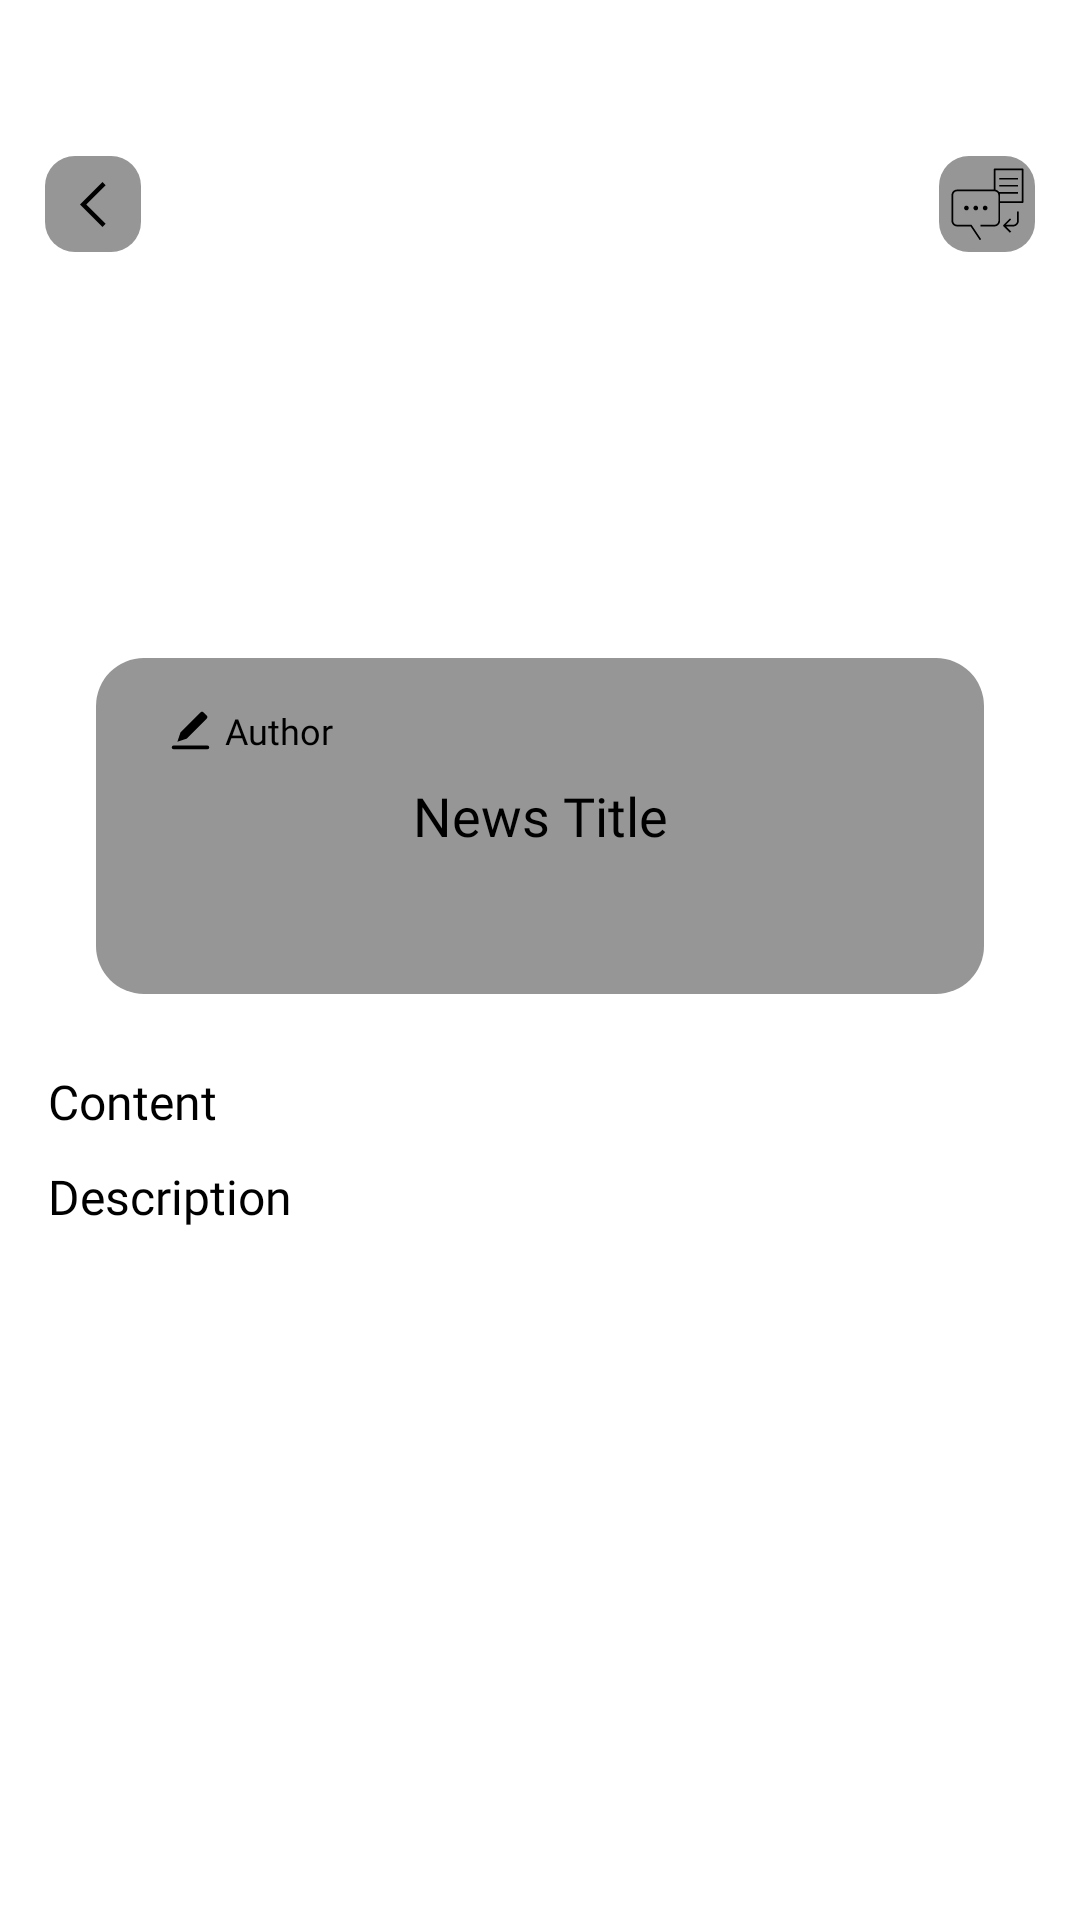

Where to tap for icons on this 1080x1920 app screen, as point (x, y):
back detail: point (93, 204)
